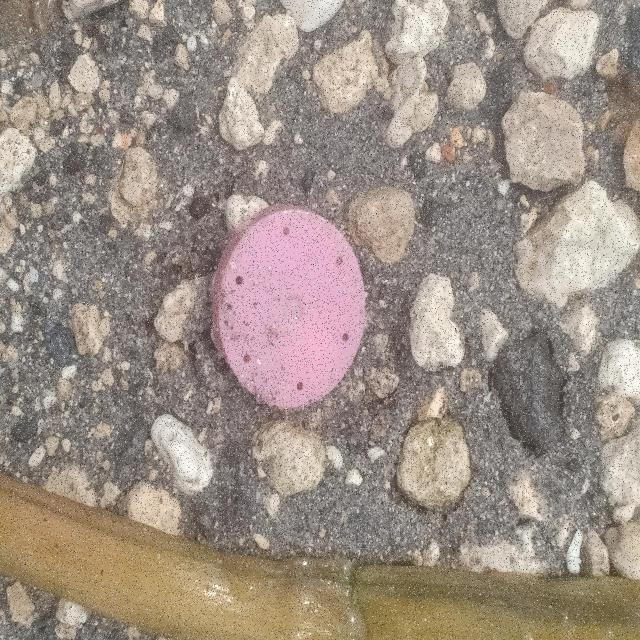plastic_waste: (211, 201, 368, 413)
